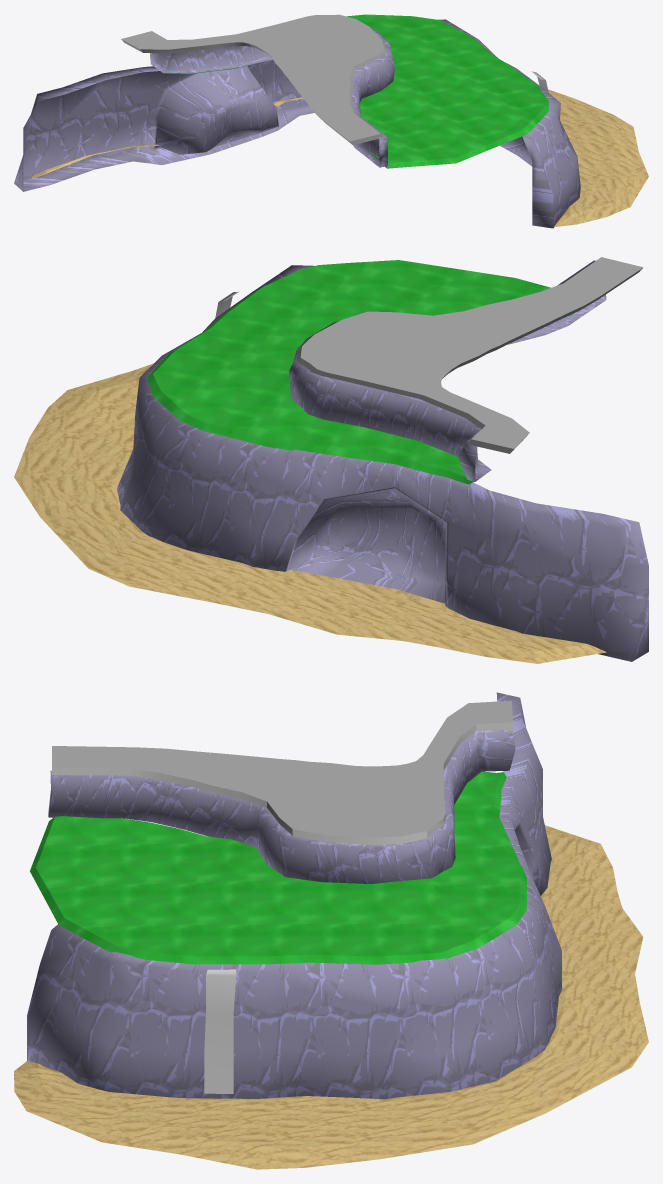
File: BeachCliff2.fbx
The picture shows the model from 3 angles, top to bottom: view 1: azimuth 30°, elevation 25°; view 2: azimuth 150°, elevation 25°; view 3: azimuth 270°, elevation 25°; orthographic projection. The views are drawn at different scales.
Visible parts, largest first — view 1: mainCliff, level1, level2, beach1, cliff2; view 2: mainCliff, beach1, level1, level2, cliff2; view 3: mainCliff, level1, beach1, level2, cliff2, vinePlane.
Boxes of the visible parts, x1,y1,x2,y2 form: mainCliff: (14,19,580,228); level1: (167,14,548,168); level2: (121,14,387,144); beach1: (31,89,648,227); cliff2: (149,27,394,167); mainCliff: (117,265,648,661); beach1: (14,363,606,663); level1: (148,260,572,484); level2: (297,257,642,453); cliff2: (289,260,606,481); mainCliff: (27,692,561,1099); level1: (30,771,526,964); beach1: (14,825,648,1169); level2: (52,700,513,844); cliff2: (48,730,515,884); vinePlane: (204,969,236,1093).
Size of the model in its own units: 5611 by 1380 by 4180.
